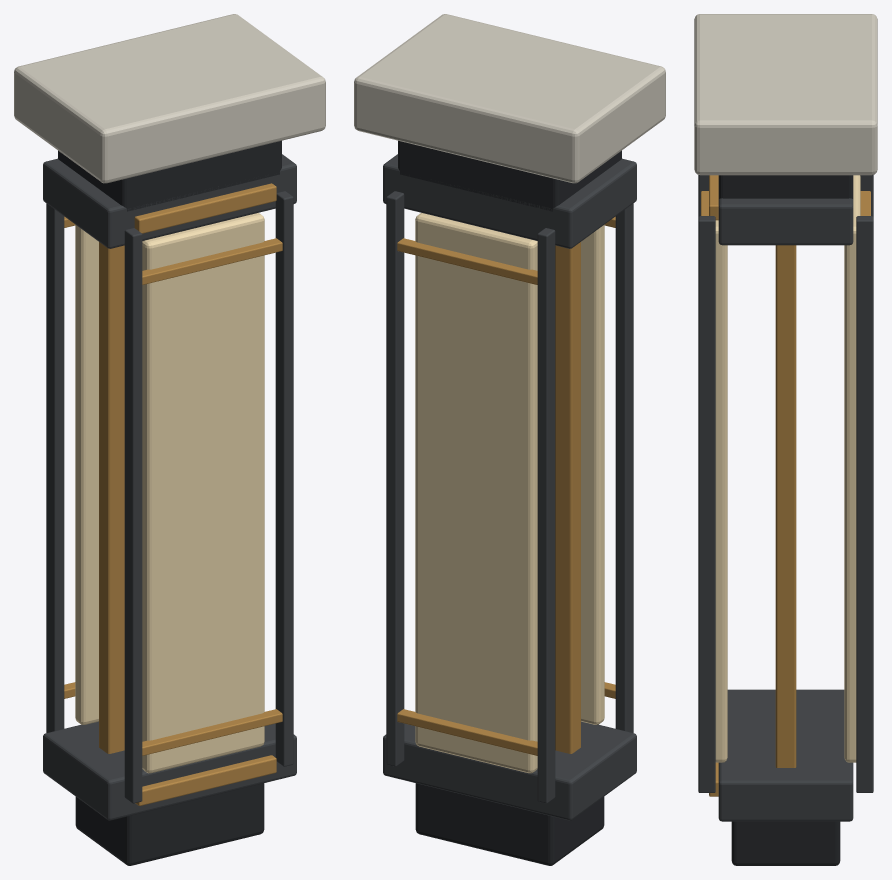
The model's file is SM_Aurelion_KIT_Z12CanopyPendant.fbx.
3 renders of one model, left to right at view 1: azimuth 30°, elevation 25°; view 2: azimuth 150°, elevation 25°; view 3: azimuth 270°, elevation 25°, orthographic.
Parts seen in each view (by area): view 1: SM_Aurelion_KIT_Z12CanopyPendant; view 2: SM_Aurelion_KIT_Z12CanopyPendant; view 3: SM_Aurelion_KIT_Z12CanopyPendant.
Part boxes in pixels (bbox=[...]): SM_Aurelion_KIT_Z12CanopyPendant: bbox=[14, 14, 325, 865]; SM_Aurelion_KIT_Z12CanopyPendant: bbox=[354, 14, 665, 865]; SM_Aurelion_KIT_Z12CanopyPendant: bbox=[694, 14, 877, 865].
Bounding box in the file's own units: 70 × 49 × 226.
